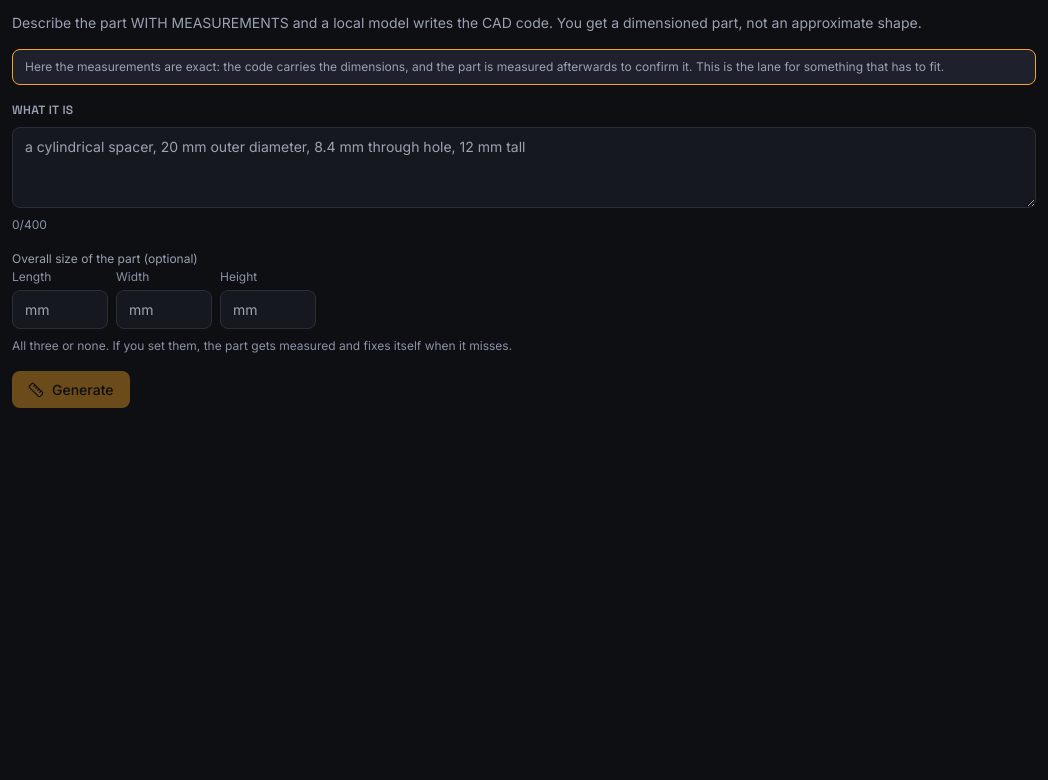
lo que muestra el resultado › avisa cuando el modelo tuvo que corregirse
Replace the text in the text box labelled "What it is 0/400" with "un espaciador de 20 mm": (524, 168) [12,127,1036,208]
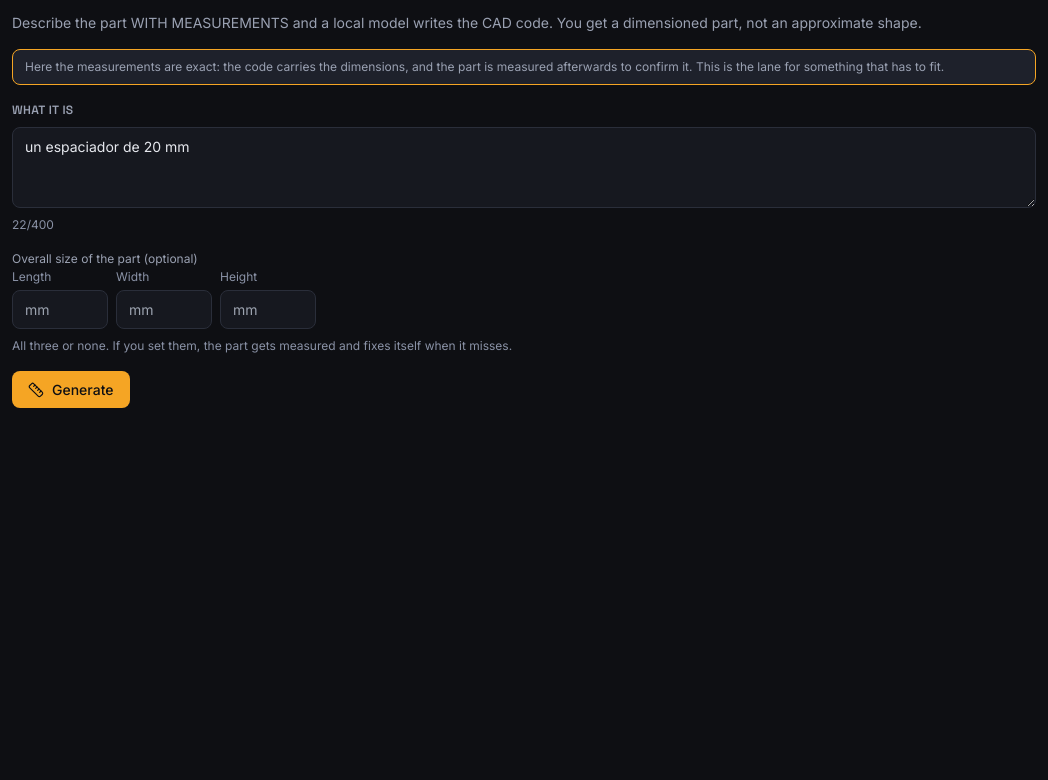
Click the button "Generate": (71, 390) [12,371,130,408]
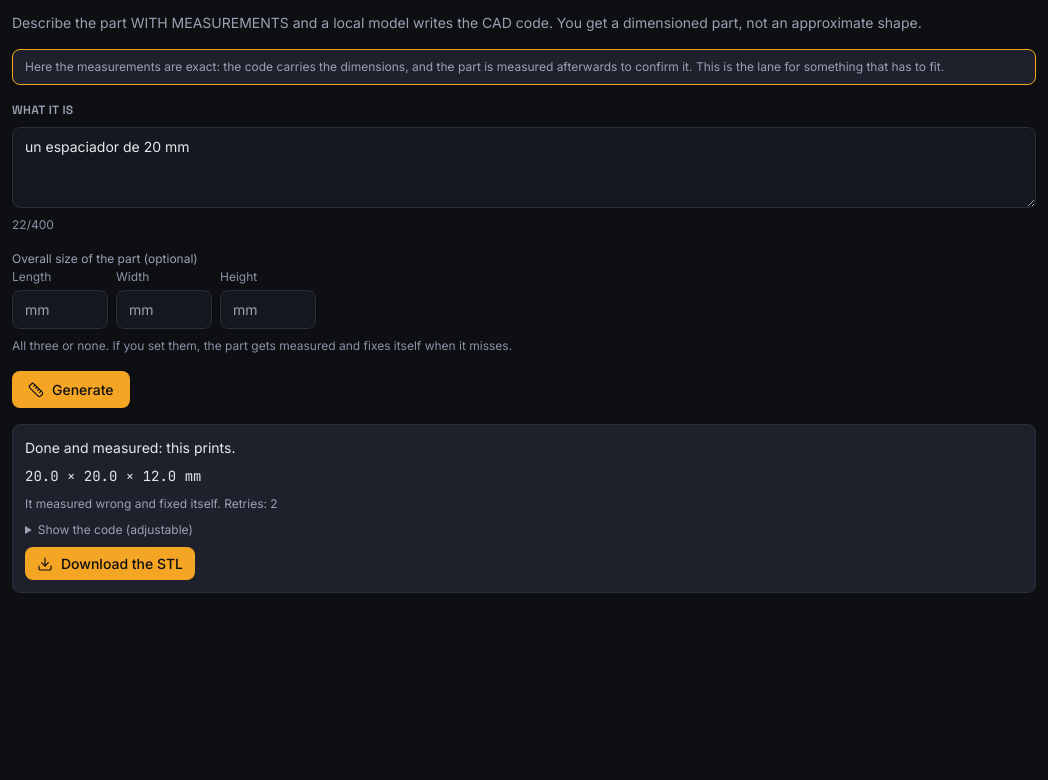
Expected: the text "It measured wrong and fixed itself. Retries: 2" is shown, [25,496,278,511]
